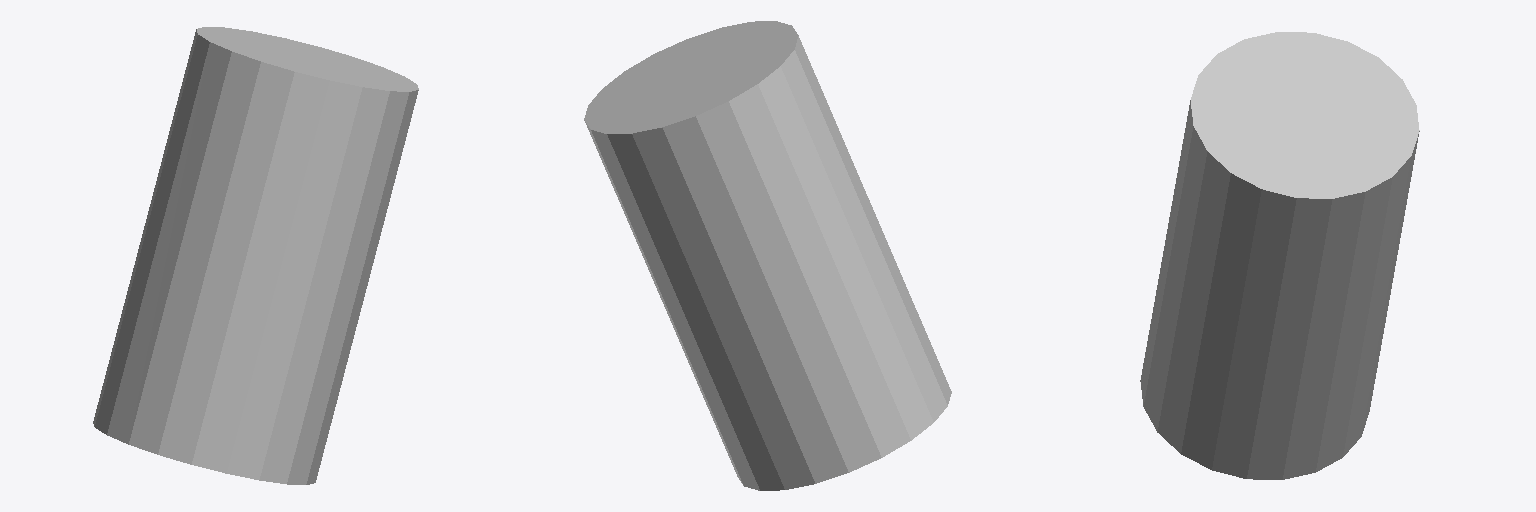
Rendered from 5distph_skin.obj.
The picture shows the model from 3 angles: view 1: azimuth 30°, elevation 25°; view 2: azimuth 150°, elevation 25°; view 3: azimuth 270°, elevation 25°; orthographic projection.
Bounding box in the file's own units: 0.0129 × 0.0165 × 0.0099.